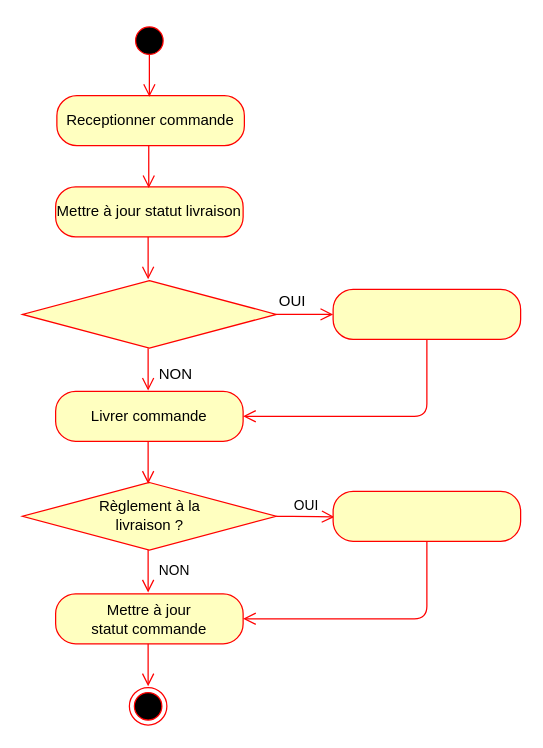
The diagram is 543 pixels wide and 748 high, and some of its shapes have lost their labels. Here are the shapes that lost their labels. From the top down, the centre of each, then its label:
At (x=148, y=313): "Rechercher adresse livraison ?".
At (x=426, y=313): "Entrer données dans API".
At (x=426, y=515): "Mettre à jour statut règlement".
